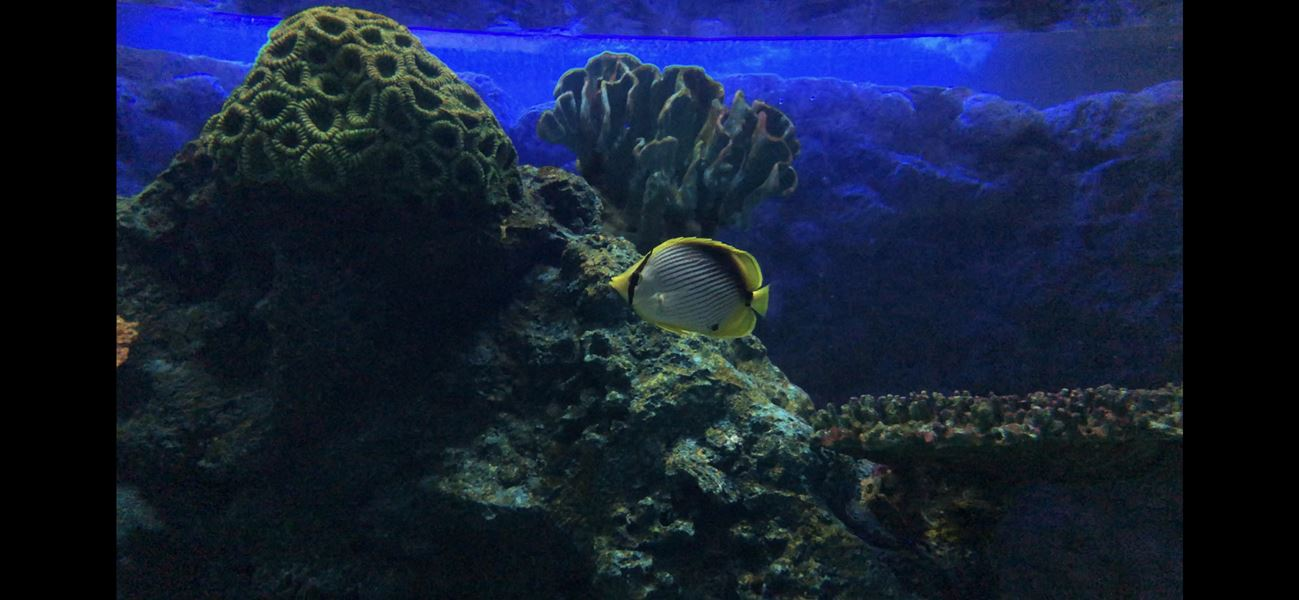Black-backed butterflyfish: (595, 228, 794, 354)
